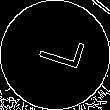L_W: (26, 33, 84, 77)
